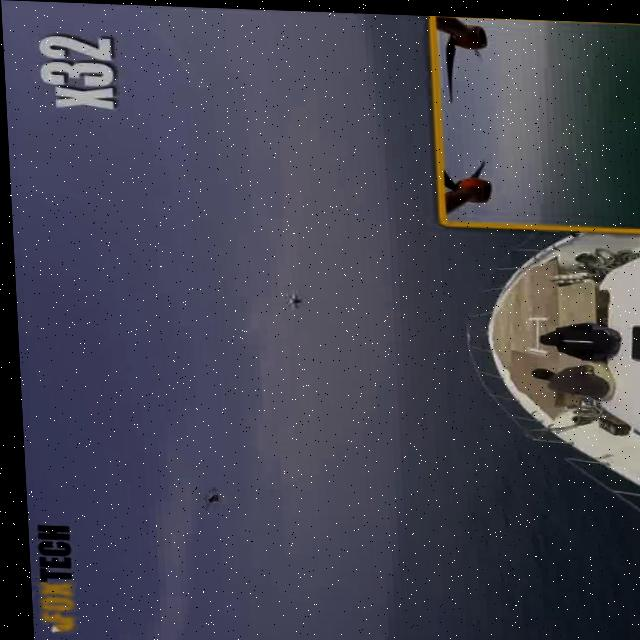drone: (265, 286, 306, 310), (187, 483, 221, 510)
